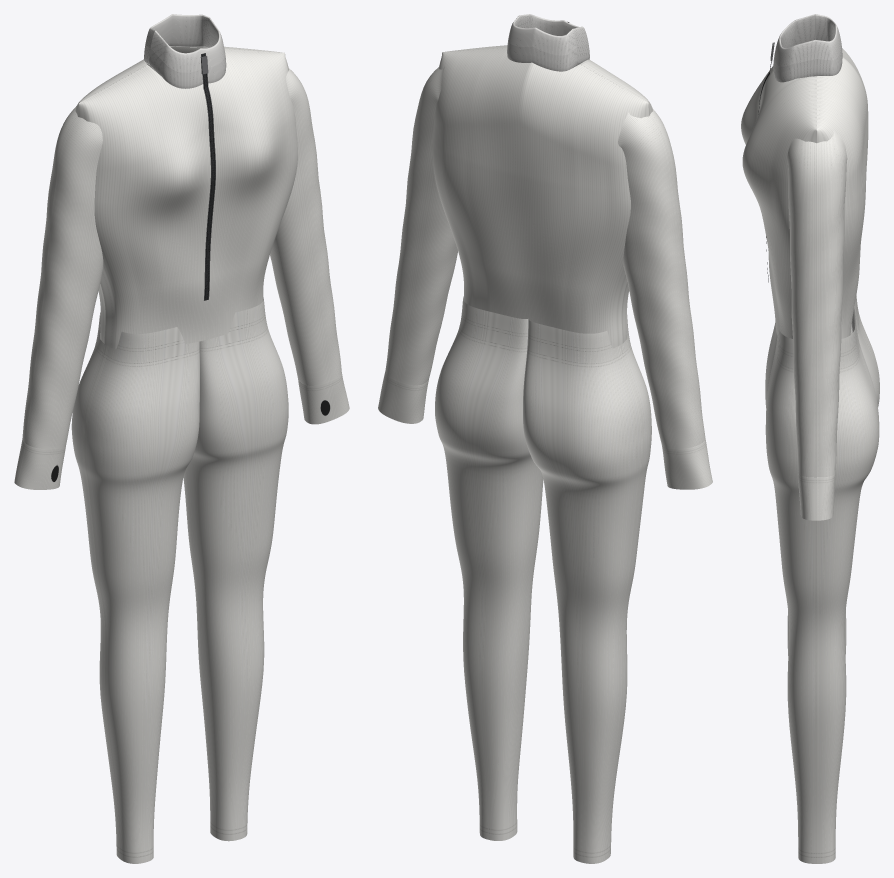
File: combinaison.glb
3 views of the same model, side by side, from view 1: azimuth 30°, elevation 25°; view 2: azimuth 150°, elevation 25°; view 3: azimuth 270°, elevation 25° (orthographic).
Visible parts, largest first — view 1: Devant, Jambe_gauche, Jambe_droite, Manche_gauche, Manche_droite, Col_montant, Zip, Dos; view 2: Dos, Jambe_gauche, Jambe_droite, Manche_gauche, Manche_droite, Col_montant, Devant; view 3: Jambe_droite, Manche_droite, Devant, Dos, Col_montant, Jambe_gauche.
Part boxes in pixels (<box>): Devant: <box>78,49,297,349</box>; Jambe_gauche: <box>71,312,199,863</box>; Jambe_droite: <box>183,296,288,841</box>; Manche_gauche: <box>14,106,103,489</box>; Manche_droite: <box>270,68,349,424</box>; Col_montant: <box>144,14,226,88</box>; Zip: <box>201,53,215,300</box>; Dos: <box>75,46,284,343</box>; Dos: <box>432,48,649,348</box>; Jambe_gauche: <box>523,315,651,863</box>; Jambe_droite: <box>435,296,543,840</box>; Manche_gauche: <box>618,109,712,489</box>; Manche_droite: <box>378,67,457,423</box>; Col_montant: <box>507,14,589,71</box>; Devant: <box>443,45,652,343</box>; Jambe_droite: <box>765,308,879,863</box>; Manche_droite: <box>787,130,847,520</box>; Devant: <box>741,66,816,338</box>; Dos: <box>817,48,868,338</box>; Col_montant: <box>773,14,842,82</box>; Jambe_gauche: <box>765,295,879,655</box>.
Size of the model in its own units: 0.6424 by 1.53 by 0.2381.
7 materials, 6 textured.
